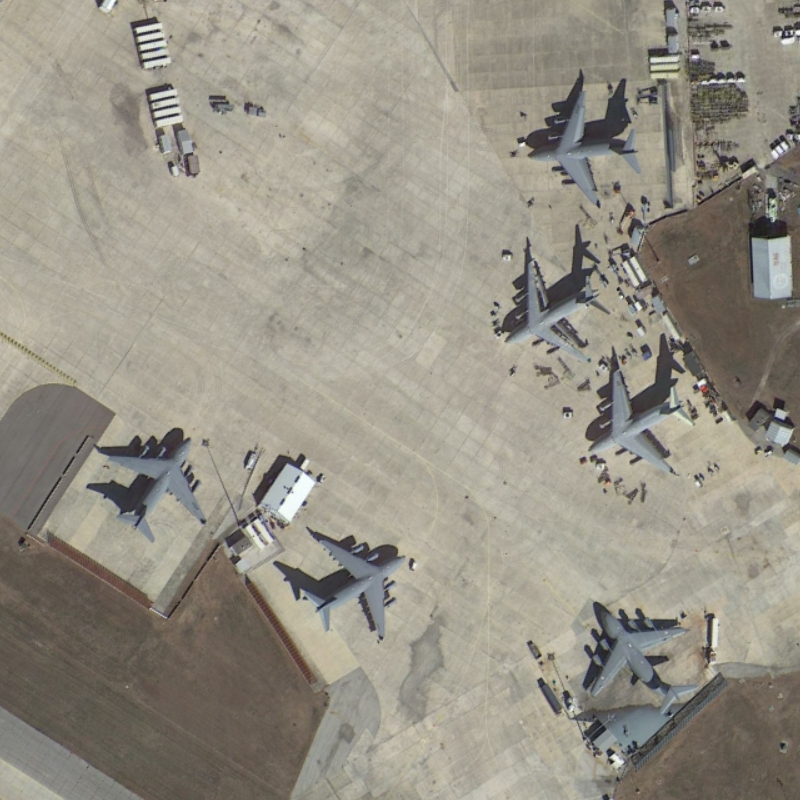A3: (521, 70, 648, 213), (576, 594, 705, 726), (299, 516, 414, 655), (88, 420, 215, 545), (494, 247, 621, 363), (583, 359, 698, 484)
